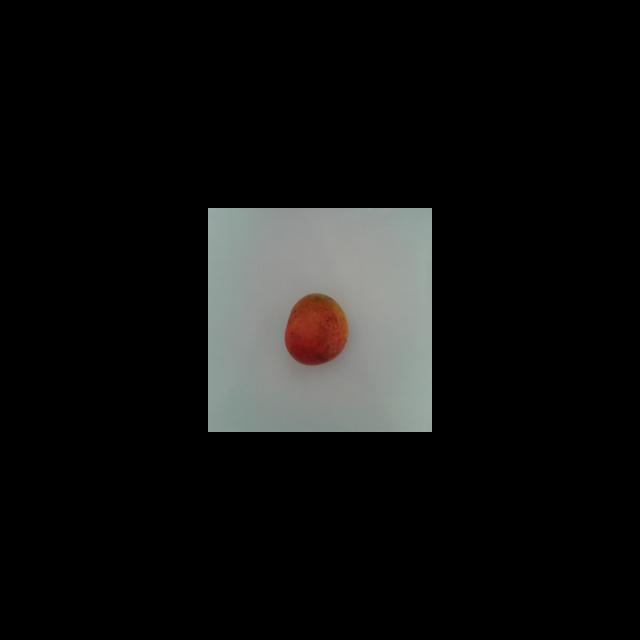Mango: (283, 292, 348, 365)
